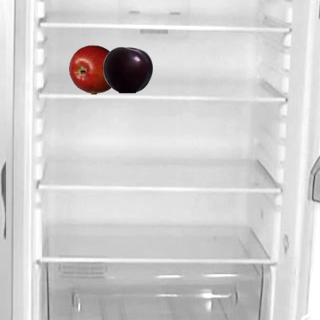Apple Braeburn: (68, 44, 118, 94)
Cherry Wax Black: (102, 44, 152, 94)
